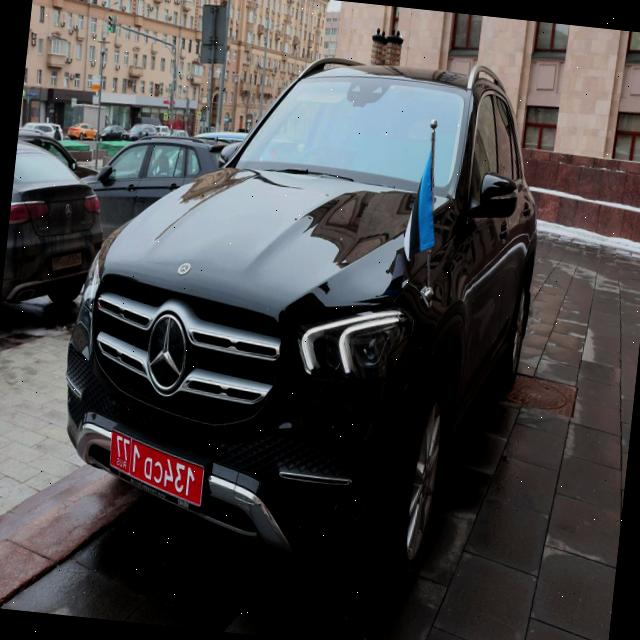number-plates: (103, 426, 213, 515)
